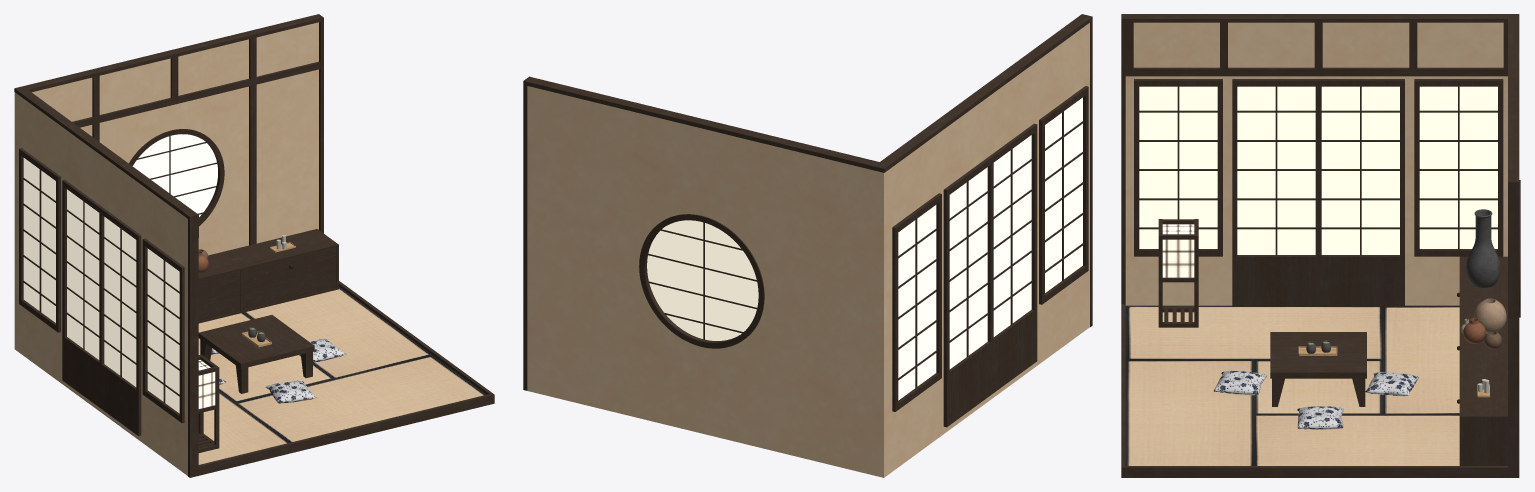
The picture shows the model from 3 angles, left to right: view 1: azimuth 30°, elevation 25°; view 2: azimuth 150°, elevation 25°; view 3: azimuth 270°, elevation 25°; orthographic projection. The views are drawn at different scales.
Visible parts, largest first — view 1: Cube, Plane, Plane.001, Cube.006, Plane.002, Cube.024, Cylinder.002, Cube.017, Cube.005, Cube.002, Cylinder.001, Cube.021 (+4 smaller); view 2: Cube, Plane.001, Plane.002, Cylinder.002, Cube.006, Cylinder.001, Cube.004, Cube.010, Cube.016, Cube.014; view 3: Plane, Plane.001, Cube, Plane.002, Cube.006, Cube.024, Cube.017, Cube.001, Cube.008, Cylinder.004, Cube.025, Cube.020 (+11 smaller).
Boxes of the visible parts, x1=… form: Cube: x1=14, y1=22, x2=318, y2=475; Plane: x1=198, y1=286, x2=486, y2=464; Plane.001: x1=62, y1=180, x2=141, y2=435; Cube.006: x1=14, y1=14, x2=494, y2=477; Plane.002: x1=19, y1=148, x2=184, y2=423; Cube.024: x1=198, y1=229, x2=338, y2=323; Cylinder.002: x1=132, y1=134, x2=217, y2=216; Cube.017: x1=198, y1=315, x2=314, y2=368; Cube.005: x1=92, y1=37, x2=256, y2=245; Cube.002: x1=72, y1=61, x2=320, y2=127; Cylinder.001: x1=129, y1=129, x2=224, y2=226; Cube.021: x1=265, y1=380, x2=316, y2=403; Cube: x1=527, y1=23, x2=1089, y2=477; Plane.001: x1=943, y1=123, x2=1037, y2=427; Plane.002: x1=892, y1=86, x2=1088, y2=411; Cylinder.002: x1=647, y1=220, x2=758, y2=340; Cube.006: x1=523, y1=14, x2=1092, y2=390; Cylinder.001: x1=639, y1=214, x2=764, y2=348; Cube.004: x1=648, y1=229, x2=757, y2=333; Cube.010: x1=898, y1=228, x2=937, y2=380; Cube.016: x1=993, y1=158, x2=1032, y2=310; Cube.014: x1=949, y1=191, x2=988, y2=342; Plane: x1=1125, y1=305, x2=1459, y2=465; Plane.001: x1=1232, y1=79, x2=1404, y2=306; Cube: x1=1125, y1=22, x2=1507, y2=305; Plane.002: x1=1134, y1=79, x2=1503, y2=256; Cube.006: x1=1121, y1=14, x2=1519, y2=477; Cube.024: x1=1457, y1=256, x2=1507, y2=465; Cube.017: x1=1270, y1=332, x2=1366, y2=378; Cube.001: x1=1125, y1=67, x2=1507, y2=76; Cube.008: x1=1125, y1=22, x2=1507, y2=68; Cylinder.004: x1=1466, y1=209, x2=1500, y2=287; Cube.025: x1=1162, y1=224, x2=1194, y2=277; Cube.020: x1=1297, y1=406, x2=1343, y2=429.
Size of the model in its own units: 3.3 by 2.68 by 3.29.
1 material, 1 textured.
